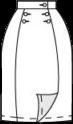Hemline: (0, 119, 72, 122)
Waistline: (17, 7, 55, 9), (16, 0, 55, 1)
